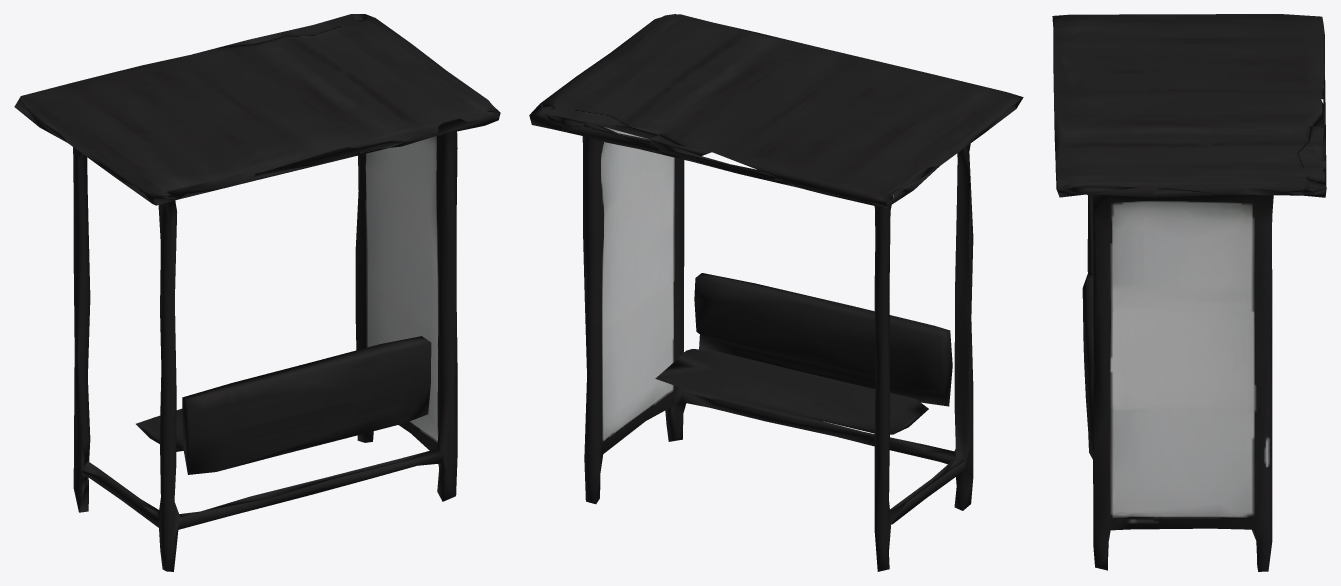
Rendered from street-shelter.glb.
3 views of the same model, side by side, from view 1: azimuth 30°, elevation 25°; view 2: azimuth 150°, elevation 25°; view 3: azimuth 270°, elevation 25° (orthographic).
Parts seen in each view (by area): view 1: Mesh_0.013; view 2: Mesh_0.013; view 3: Mesh_0.013.
Boxes of the visible parts, x1,y1,x2,y2 form: Mesh_0.013: (14, 14, 500, 571); Mesh_0.013: (529, 14, 1023, 571); Mesh_0.013: (1052, 14, 1326, 571).
Size of the model in its own units: 2.4 by 2.6 by 1.61.
Materials: 1 (1 with a texture image).
